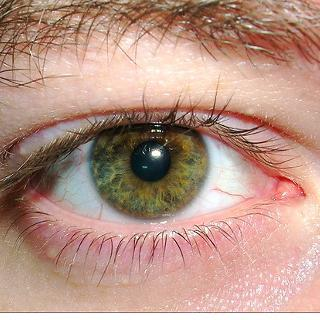pupil: (130, 142, 170, 182)
